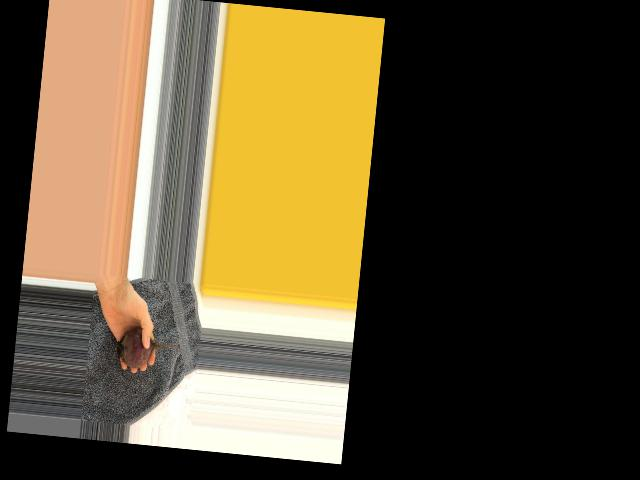beet: (114, 326, 184, 373)
